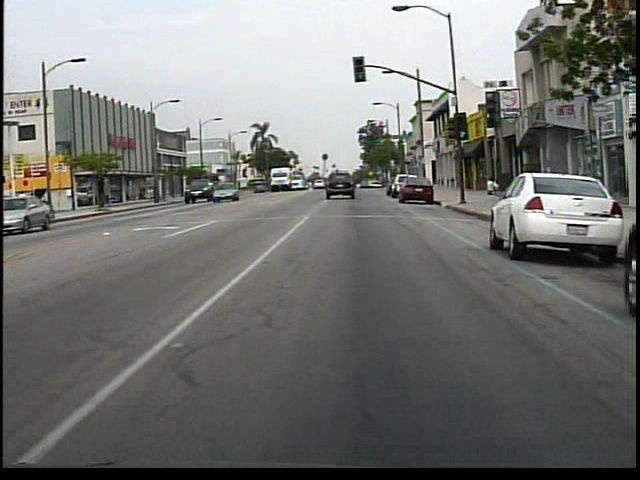person: (15, 186, 33, 218)
